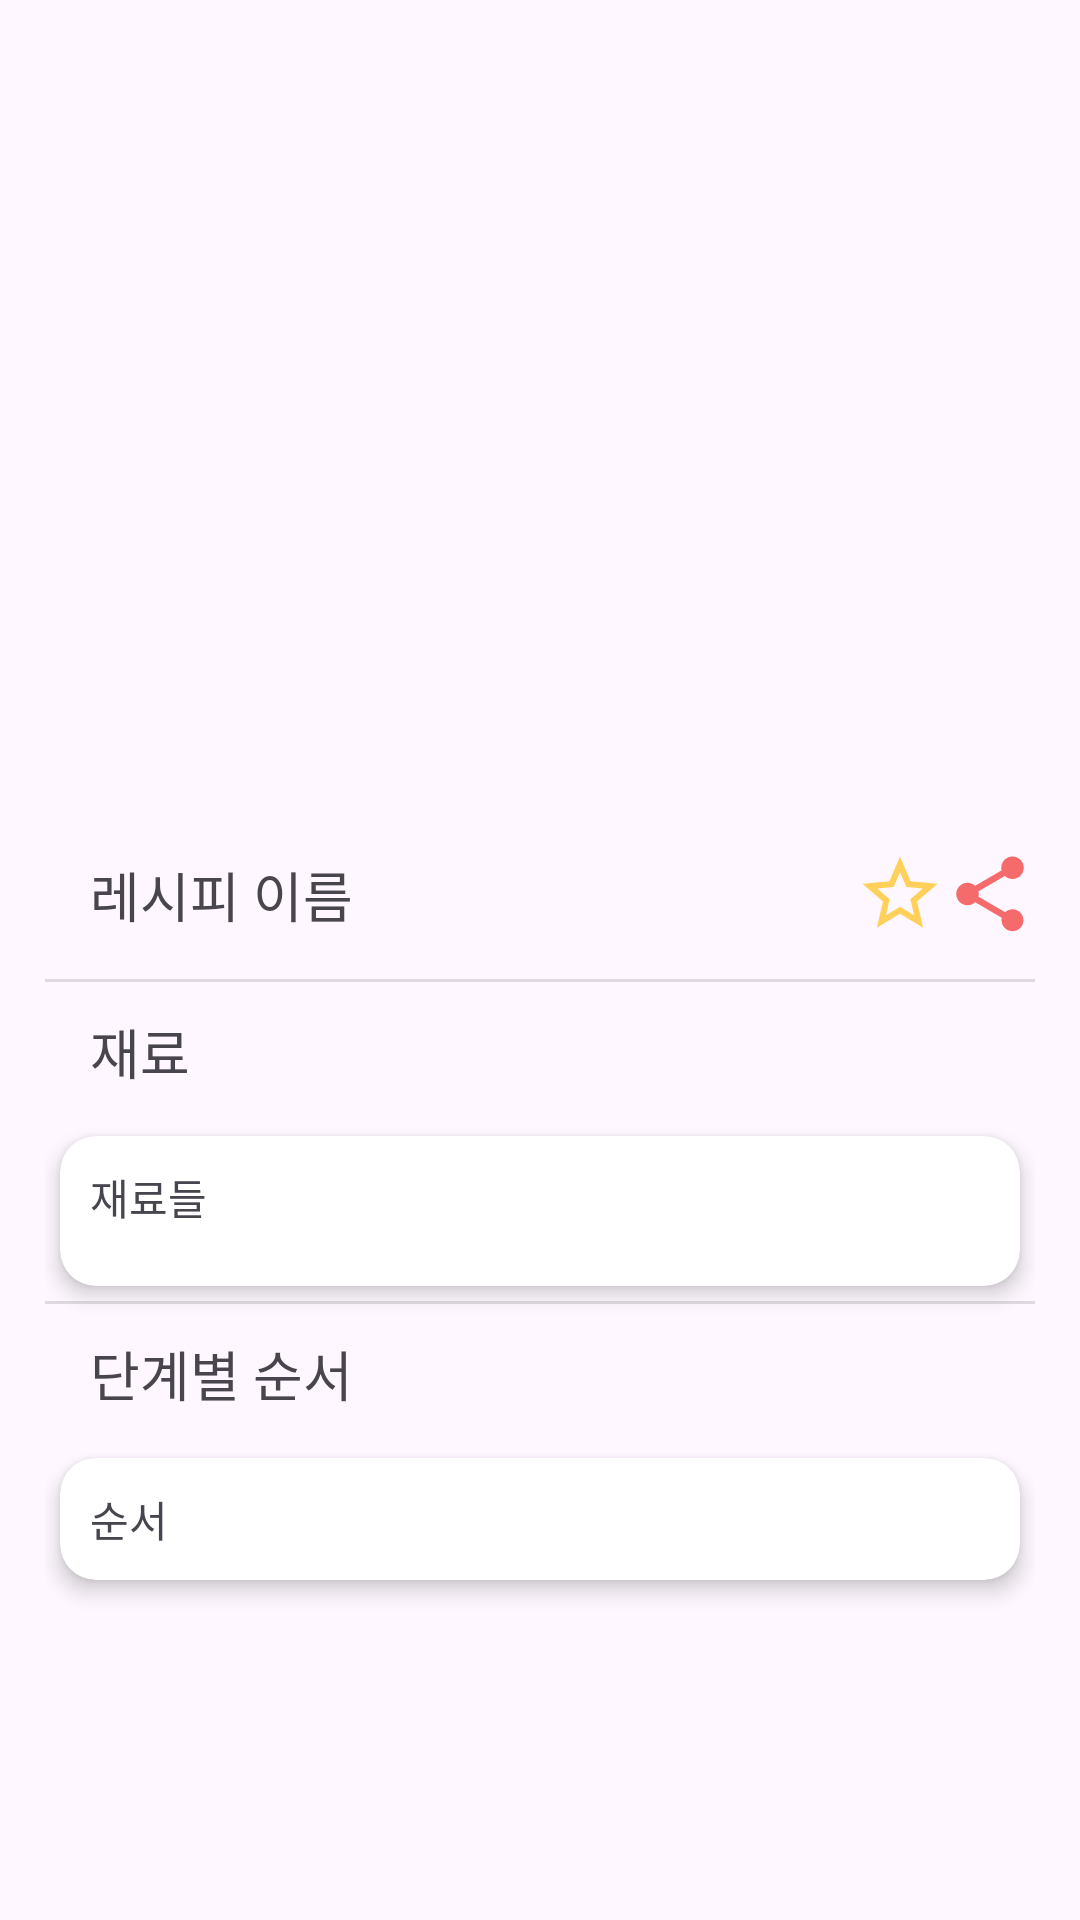

Where to tap for icons on this 1080w x 1920h app screen, as [x,y]:
share: [990,894]
star border: [900,892]
